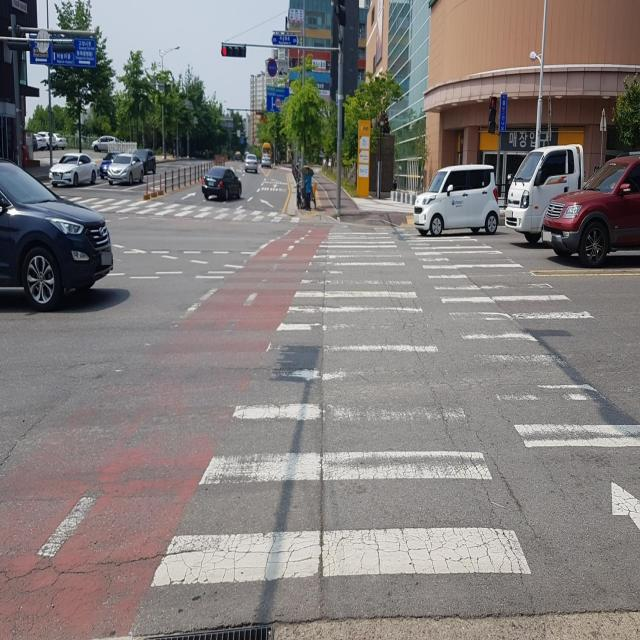빨간불: (486, 94, 498, 137)
횡단보도: (151, 212, 640, 591), (55, 198, 302, 218)
